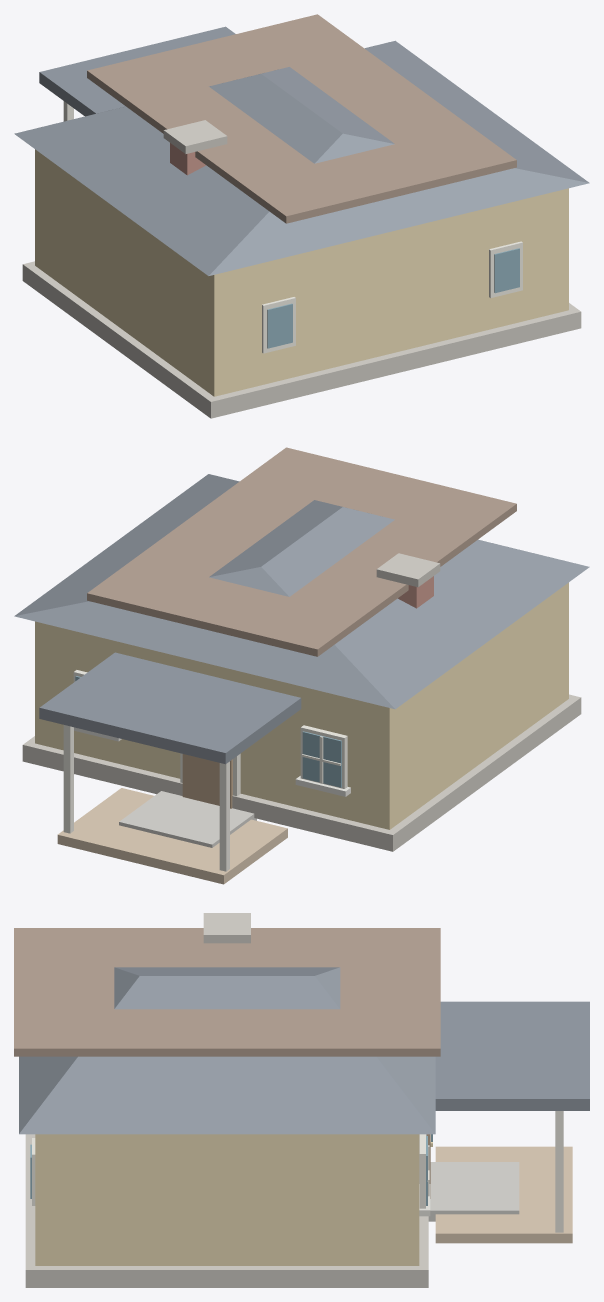
File: House_Craftsman.glb
3 views of the same model, one above another, from view 1: azimuth 30°, elevation 25°; view 2: azimuth 150°, elevation 25°; view 3: azimuth 270°, elevation 25° (orthographic). The views are drawn at different scales.
Visible parts, largest first — view 1: 001_exterior_001, 002_hip_roof_002, 003_roof_ridge_003, 000_foundation_000, 022_porch_roof_022, 028_chimney_cap_028, 026_rear_glass_026, 024_rear_glass_024, 025_rear_window_025, 023_rear_window_023, 027_chimney_027; view 2: 002_hip_roof_002, 001_exterior_001, 003_roof_ridge_003, 022_porch_roof_022, 000_foundation_000, 019_porch_deck_019, 018_stoop_018, 015_door_015, 005_window_glass_005, 028_chimney_cap_028, 020_porch_post_020, 021_porch_post_021 (+2 smaller); view 3: 001_exterior_001, 003_roof_ridge_003, 002_hip_roof_002, 022_porch_roof_022, 000_foundation_000, 019_porch_deck_019, 018_stoop_018, 028_chimney_cap_028, 021_porch_post_021, 009_window_trim_009.
Part boxes in pixels (x1,y1,x2,y2): 001_exterior_001: (35,149,568,396); 002_hip_roof_002: (14,40,589,275); 003_roof_ridge_003: (87,14,516,223); 000_foundation_000: (22,261,581,418); 022_porch_roof_022: (39,26,235,116); 028_chimney_cap_028: (163,120,227,153); 026_rear_glass_026: (494,248,519,293); 024_rear_glass_024: (267,303,292,348); 025_rear_window_025: (489,241,522,298); 023_rear_window_023: (262,297,295,353); 027_chimney_027: (170,143,205,175); 002_hip_roof_002: (14,474,589,709); 001_exterior_001: (35,582,568,829); 003_roof_ridge_003: (87,447,516,656); 022_porch_roof_022: (39,652,301,764); 000_foundation_000: (22,694,581,851); 019_porch_deck_019: (57,788,287,884); 018_stoop_018: (119,791,256,847); 015_door_015: (182,754,232,808); 005_window_glass_005: (302,731,341,787); 028_chimney_cap_028: (376,553,440,587); 020_porch_post_020: (219,761,229,871); 021_porch_post_021: (63,725,73,833); 001_exterior_001: (35,1134,419,1265); 003_roof_ridge_003: (14,928,440,1056); 002_hip_roof_002: (19,967,435,1134); 022_porch_roof_022: (435,1001,589,1110); 000_foundation_000: (25,1134,428,1287); 019_porch_deck_019: (435,1146,572,1243); 018_stoop_018: (428,1162,519,1221); 028_chimney_cap_028: (203,913,250,943); 021_porch_post_021: (555,1111,563,1232); 009_window_trim_009: (419,1134,425,1208).
Bounding box in the file's own units: 8.6 × 4.51 × 10.5.
